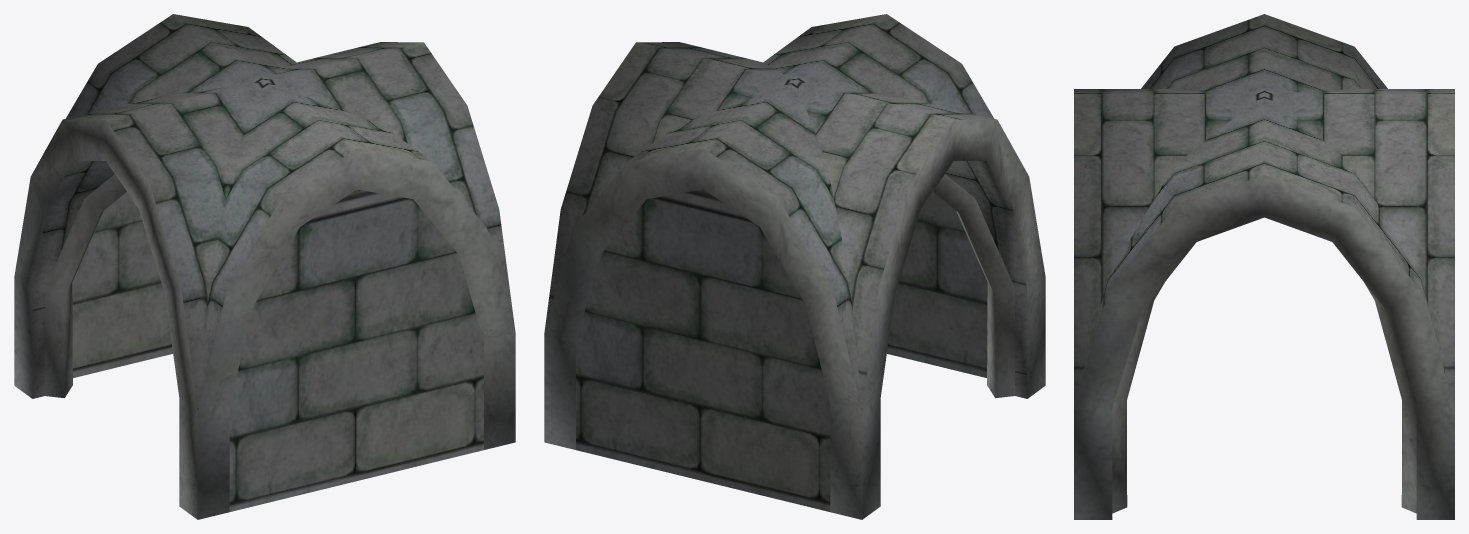
File: vault_ceiling_small_03.glb
3 views of the same model, side by side, from view 1: azimuth 30°, elevation 25°; view 2: azimuth 150°, elevation 25°; view 3: azimuth 270°, elevation 25° (orthographic). The views are drawn at different scales.
Parts seen in each view (by area): view 1: vault_ceiling_small_03; view 2: vault_ceiling_small_03; view 3: vault_ceiling_small_03.
Part boxes in pixels (x1,y1,x2,y2): vault_ceiling_small_03: [14, 14, 515, 519]; vault_ceiling_small_03: [544, 14, 1045, 519]; vault_ceiling_small_03: [1074, 14, 1454, 519].
Bounding box in the file's own units: 2 × 2 × 2.
Materials: 1 (1 with a texture image).
